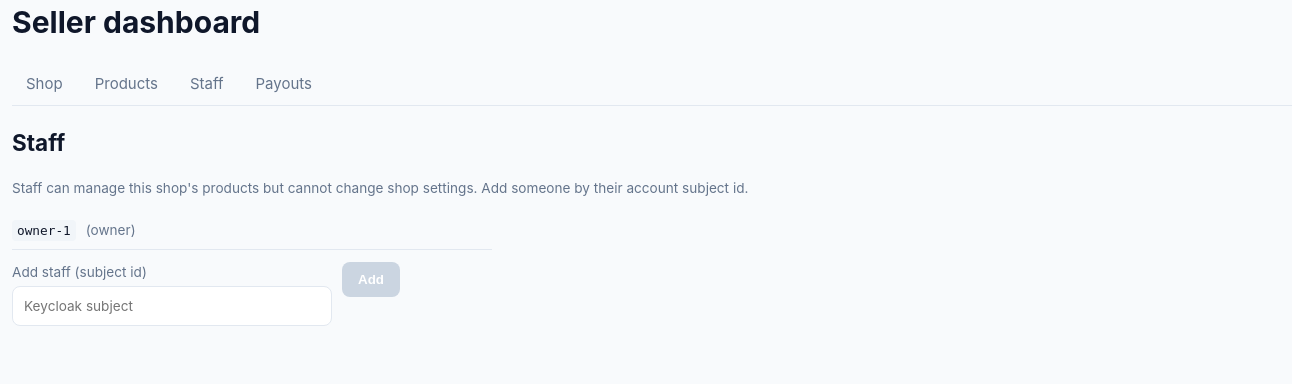
SellerStaff › adds a staff member and reloads the list
The image size is (1292, 384).
Check: the text "owner-1" is shown, box [12,220,76,241]
Type "staff-a" into the field labelled "Add staff (subject id)" at (172, 306), box [12,286,332,326]
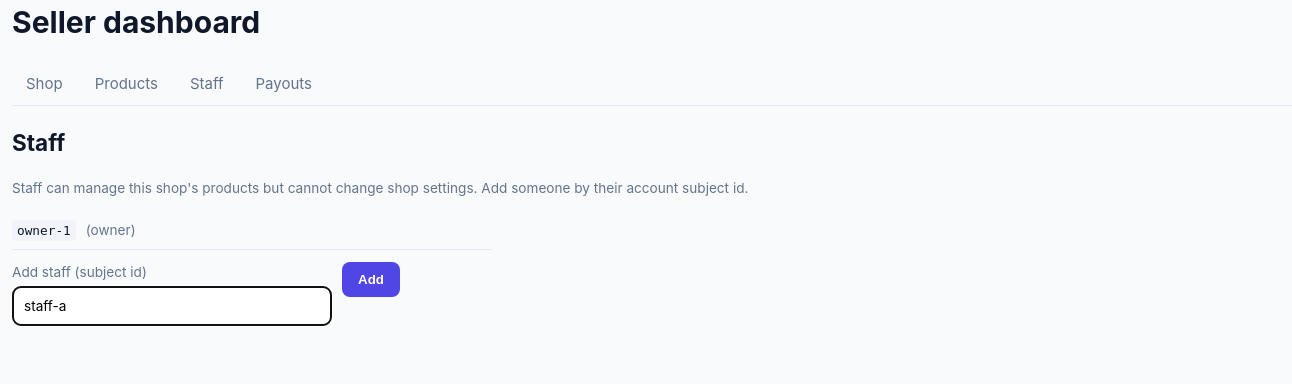
Click the button "Add" at (371, 280), box [342,262,400,297]
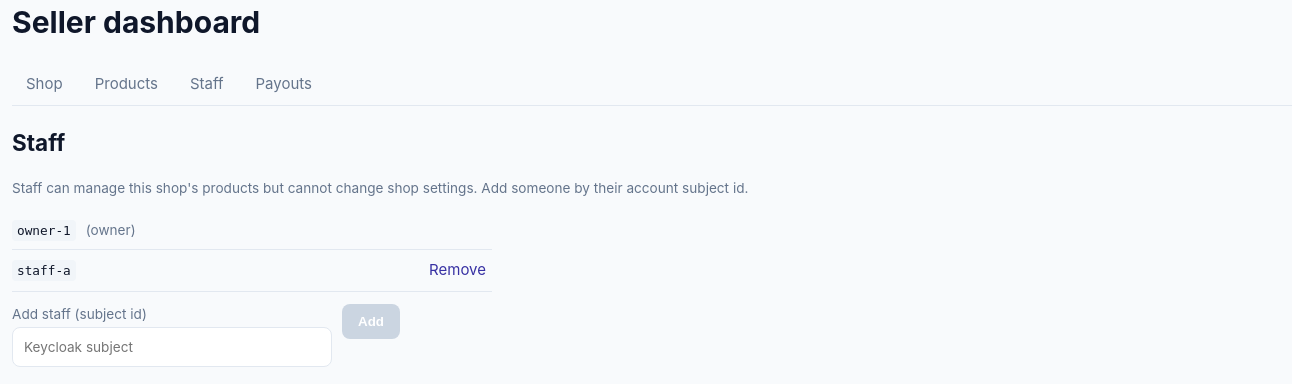
Check: the text "staff-a" is shown, box [12,260,76,281]
Check: the field labelled "Add staff (subject id)" is empty, box [12,327,332,367]
